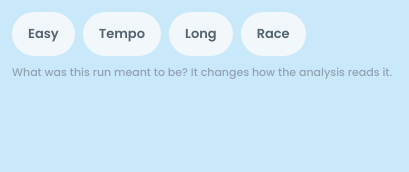
Test: IntentChips › a failed write shows the action’s error sentence and nothing else changes
The image size is (409, 172).
Step 1. Click the button "Race" → click(273, 34), box [241,12,306,56]
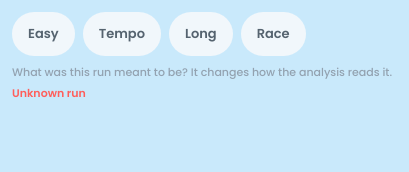
Expected: the text "Unknown run" is shown, [12,84,86,100]
